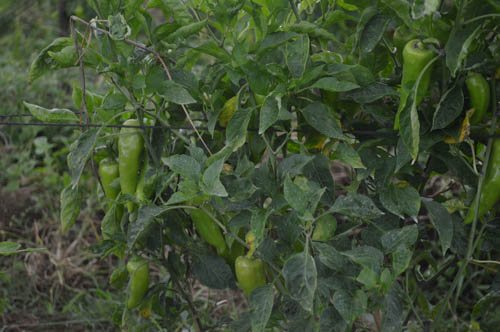ChiliPepper: (392, 44, 437, 127), (464, 142, 498, 225), (112, 120, 140, 204), (94, 160, 121, 221), (122, 259, 154, 308), (464, 74, 488, 127), (228, 255, 263, 289)
